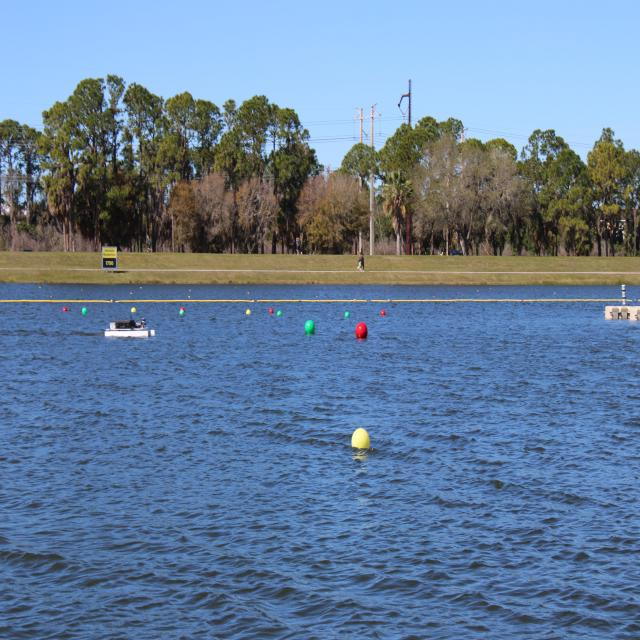green-buoy: (304, 322, 314, 338), (278, 309, 283, 315)
red-buoy: (356, 324, 368, 342)
yellow-buoy: (352, 427, 370, 449), (244, 308, 250, 314)
